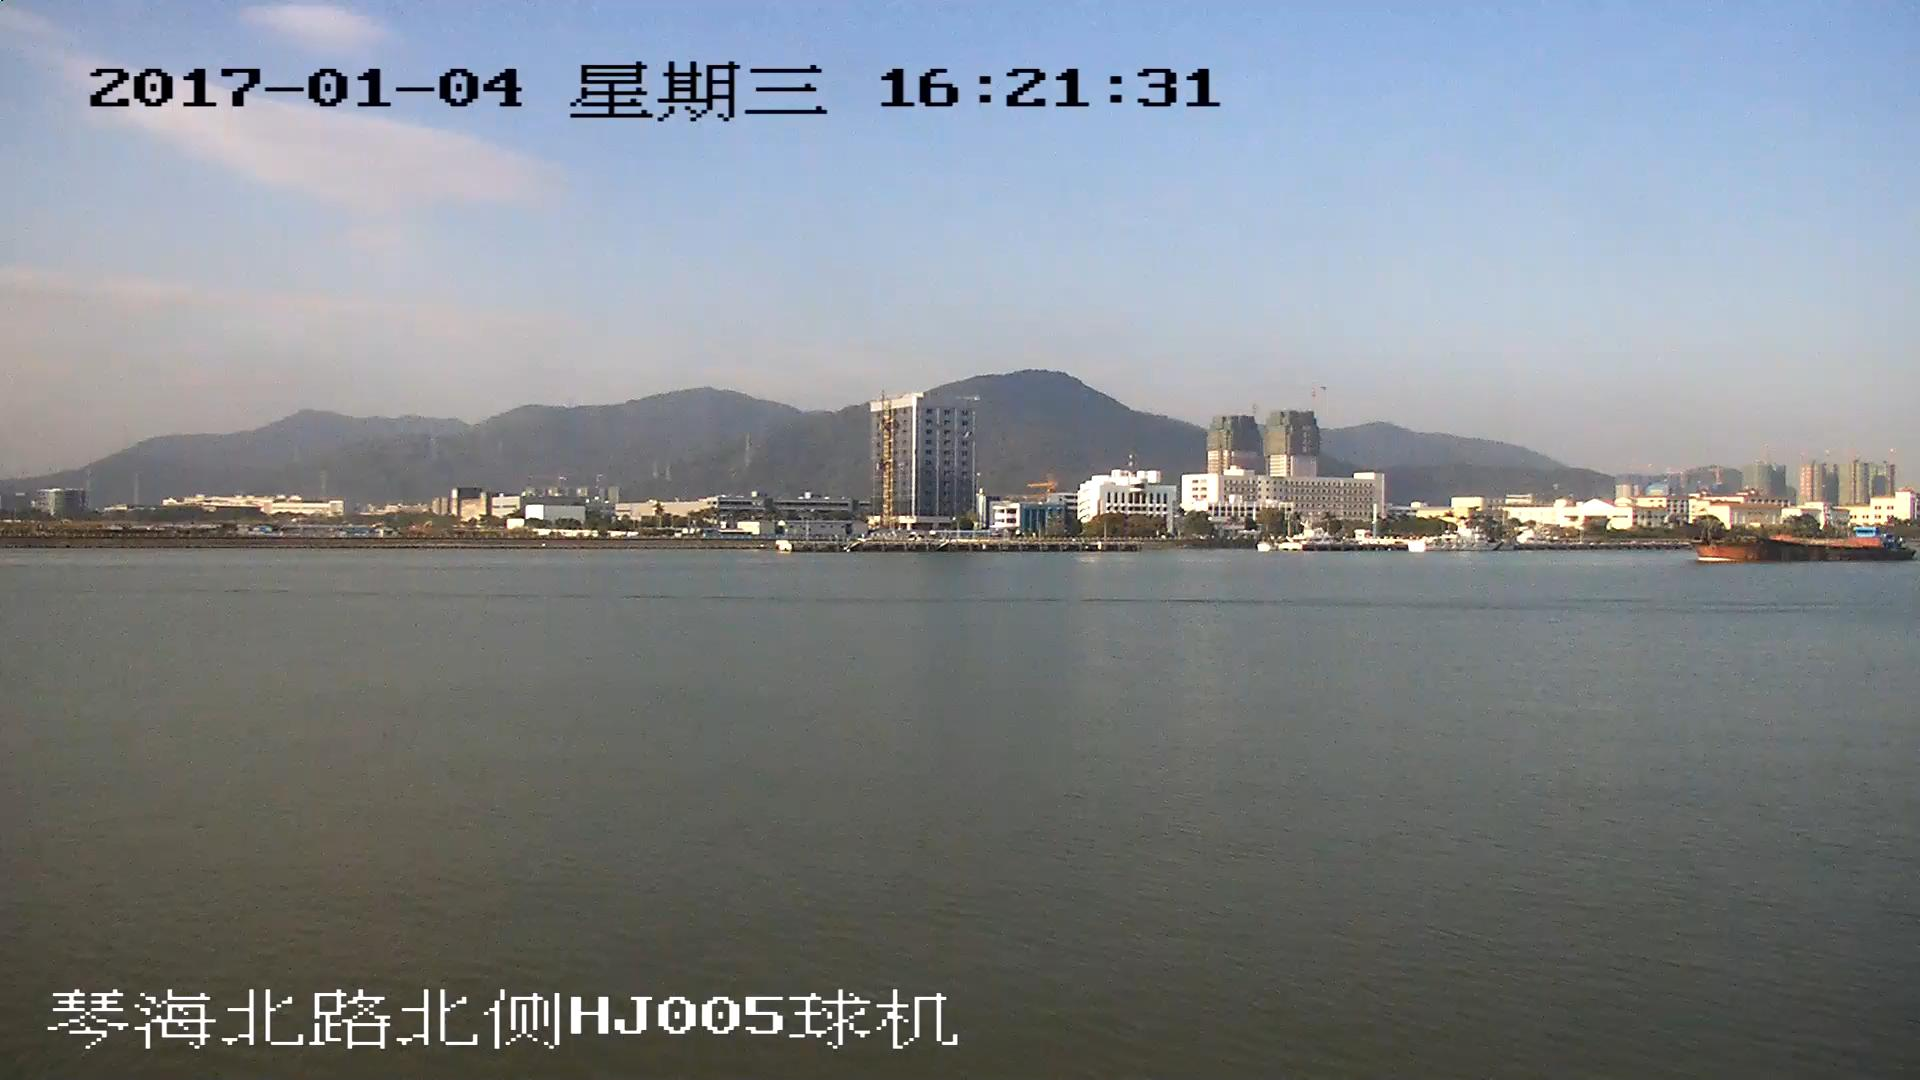bulk cargo carrier: (1682, 515, 1914, 563)
